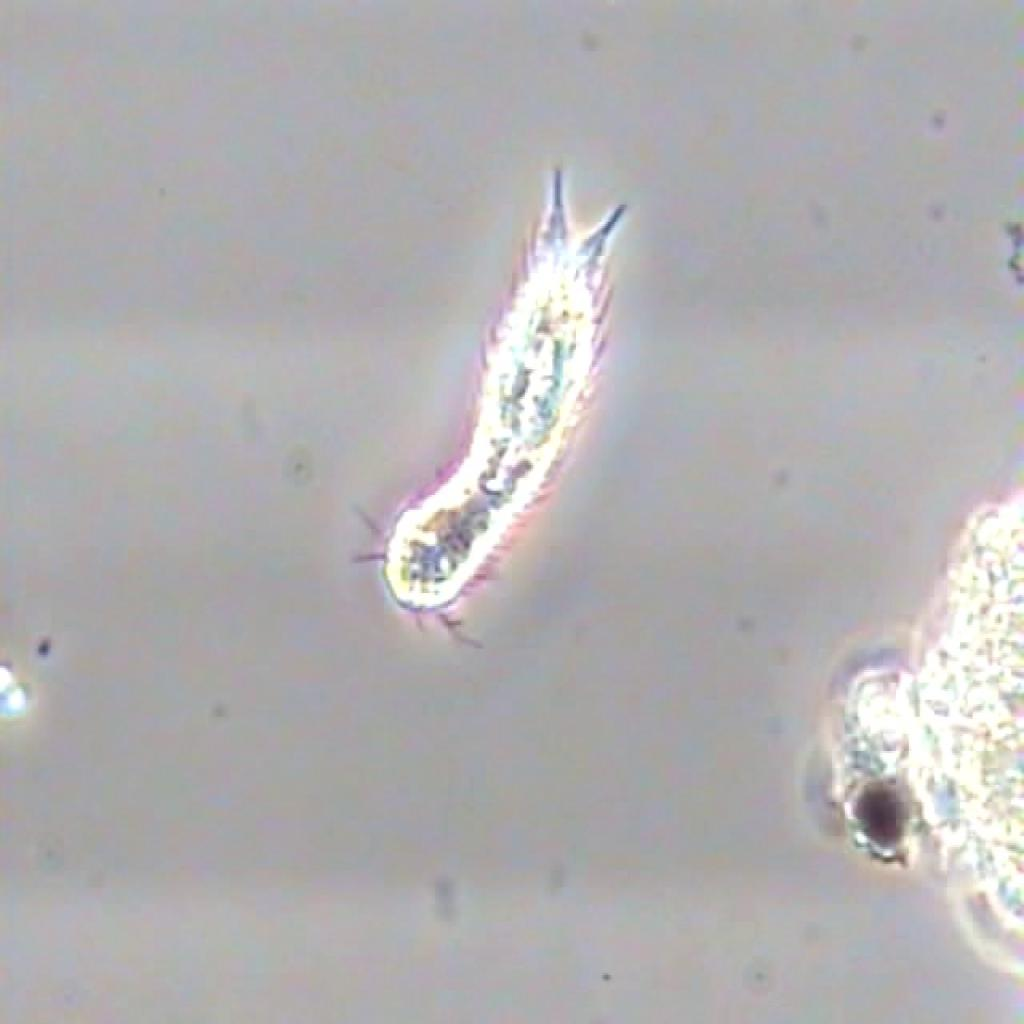Chaetonotus: (313, 163, 644, 650)
